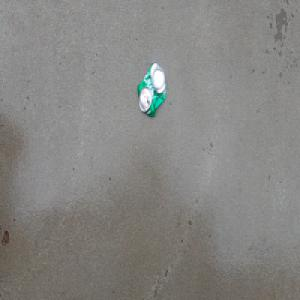SodaCan: (137, 61, 167, 118)
